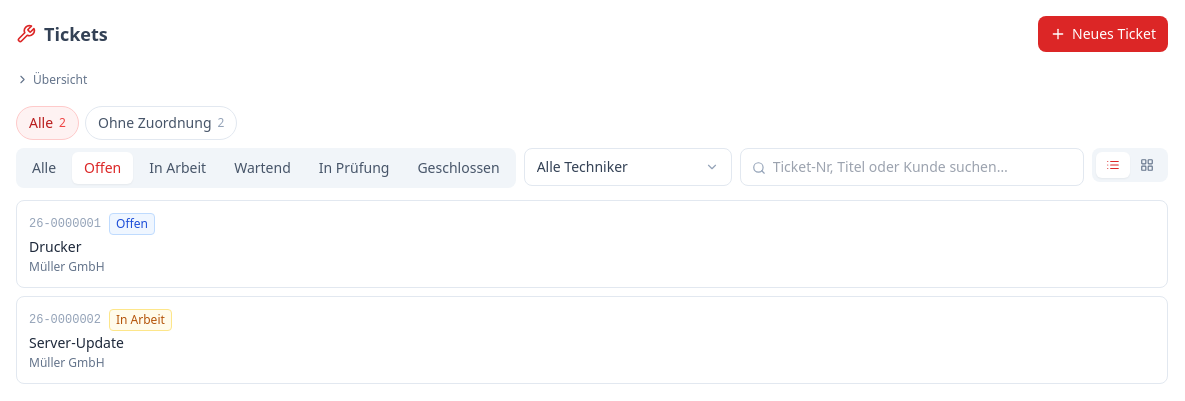
Test: TicketsPage › switches to board view and shows columns
Expected: the text "Drucker" is shown, x1=29 y1=236 x2=82 y2=256
Click the button with test id "view-toggle-board".
click(1147, 164)  # box x1=1130 y1=152 x2=1164 y2=178
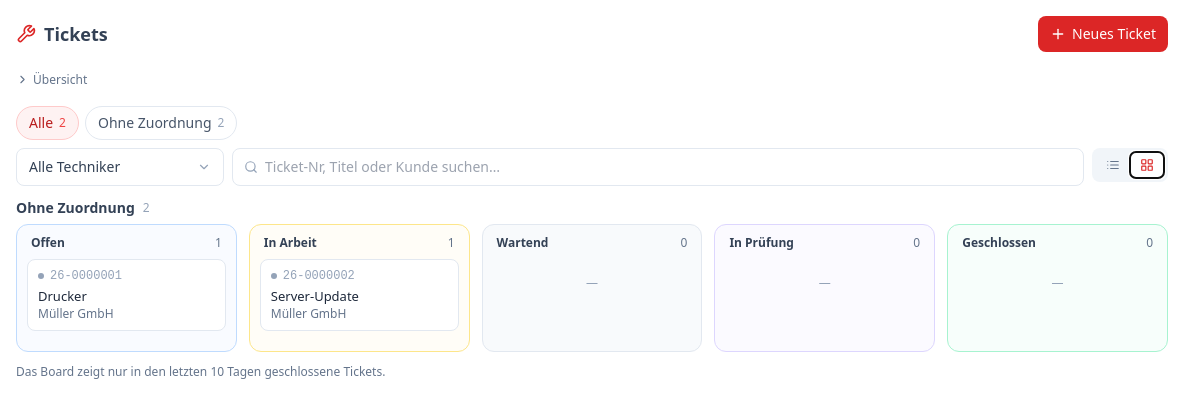
Expected: the element with test id "ticket-board" is shown, x1=16 y1=198 x2=1168 y2=352
Expected: the element with test id "board-column-open" is shown, x1=16 y1=224 x2=237 y2=352
Expected: the element with test id "board-column-in_progress" is shown, x1=249 y1=224 x2=470 y2=352
